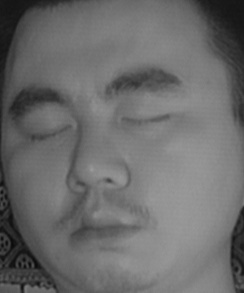blink: (119, 102, 169, 138), (25, 116, 72, 149)
mouth: (60, 200, 146, 256)
